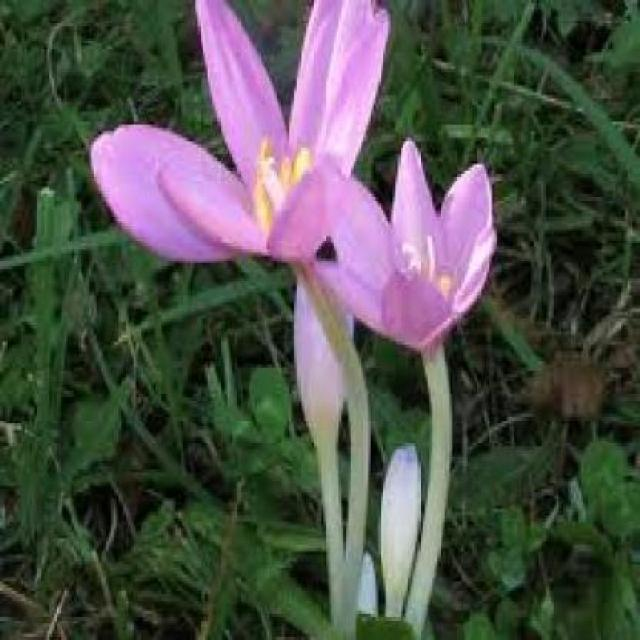saffron open: (91, 0, 389, 569), (327, 140, 495, 354)
